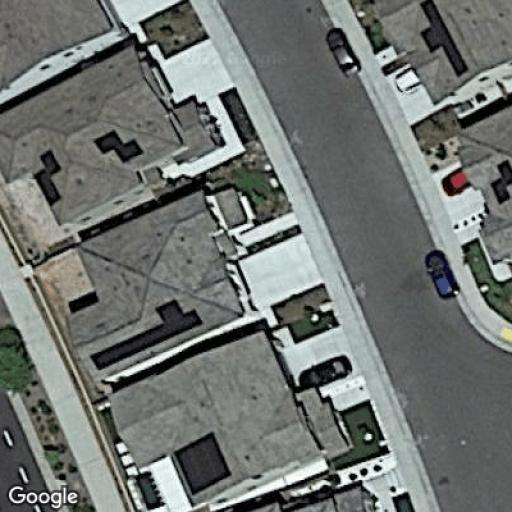solar-panel: (90, 295, 203, 371), (171, 430, 235, 497), (418, 1, 469, 79), (93, 128, 144, 164), (32, 148, 64, 205), (486, 155, 512, 207)
